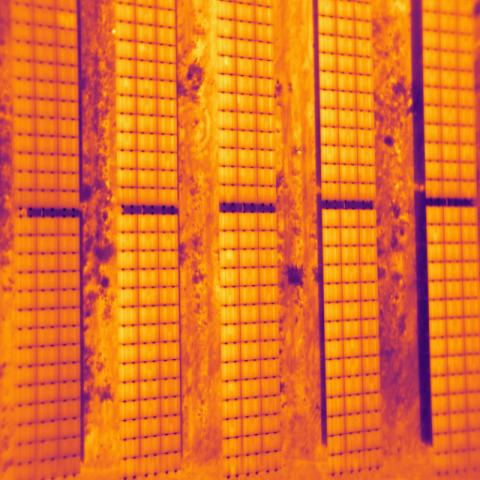fault: (56, 9, 78, 31), (222, 456, 244, 477), (220, 248, 240, 270), (216, 55, 237, 74)
